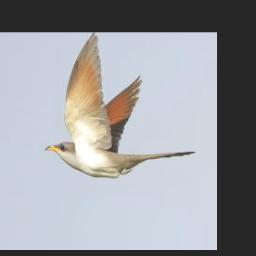Cuckoo: (45, 32, 196, 176)
